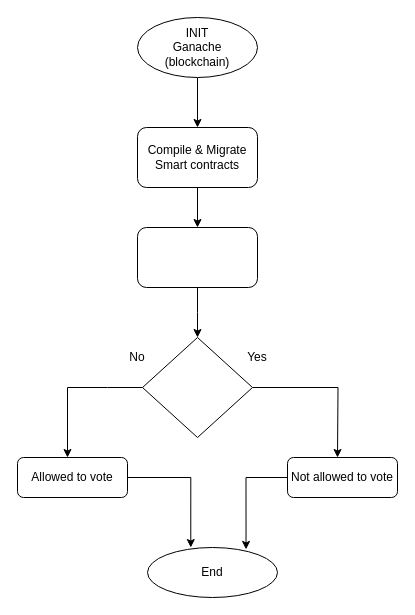
Some shapes in this 415 by 615 pixel diagram are drawn without their labels. The shapes that lost their labels are listed below. From the top down, each one's centre as x and y in pixels, then its label:
At pixel 197 257: "Import Eth account to metamask".
At pixel 197 387: "Already voted using current account".
